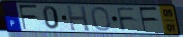0: (42, 5, 61, 31)
F: (138, 6, 160, 33), (115, 7, 138, 32), (18, 4, 39, 31)
H: (65, 4, 91, 32)
O: (90, 6, 113, 32)
